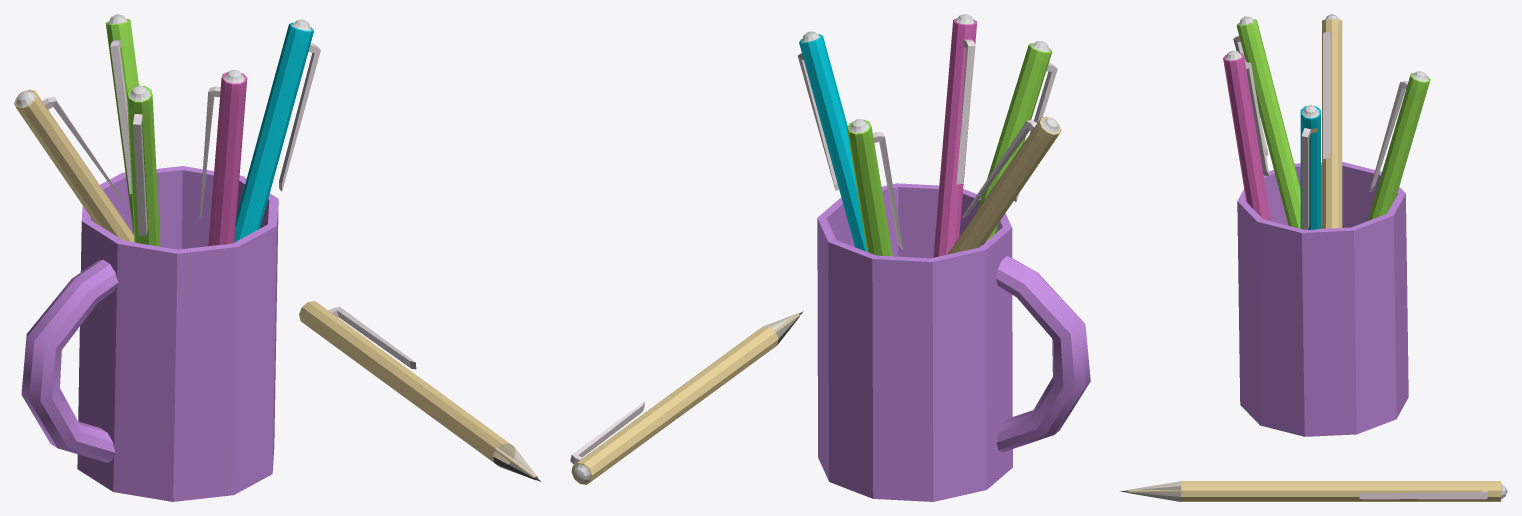
The model's file is PencilsAndMug.fbx.
3 renders of one model, left to right at view 1: azimuth 30°, elevation 25°; view 2: azimuth 150°, elevation 25°; view 3: azimuth 270°, elevation 25°, orthographic. The views are drawn at different scales.
Visible parts, largest first — view 1: Mug1, Pencil1, Pencil, Pencil4, Pencil2, Pencil5, Pencil3; view 2: Mug1, Pencil1, Pencil4, Pencil, Pencil2, Pencil3, Pencil5; view 3: Mug1, Pencil1, Pencil5, Pencil2, Pencil4, Pencil3, Pencil.
Boxes of the visible parts, box(x1,y1,x2,y2) form: Mug1: box(21, 166, 278, 501); Pencil1: box(299, 301, 540, 481); Pencil: box(234, 19, 320, 242); Pencil4: box(199, 70, 247, 246); Pencil2: box(14, 89, 134, 242); Pencil5: box(127, 85, 160, 246); Pencil3: box(105, 14, 138, 234); Mug1: box(817, 183, 1090, 501); Pencil1: box(570, 311, 803, 484); Pencil4: box(933, 14, 976, 257); Pencil: box(797, 31, 866, 251); Pencil2: box(947, 116, 1061, 254); Pencil3: box(847, 119, 903, 256); Pencil5: box(977, 41, 1057, 241); Mug1: box(1237, 162, 1408, 436); Pencil1: box(1120, 481, 1507, 501); Pencil5: box(1233, 16, 1300, 228); Pencil2: box(1322, 14, 1342, 228); Pencil4: box(1223, 50, 1270, 221); Pencil3: box(1368, 71, 1430, 220); Pencil: box(1300, 105, 1320, 229).
Bounding box in the file's own units: 0.3079 × 0.3016 × 0.2931.
